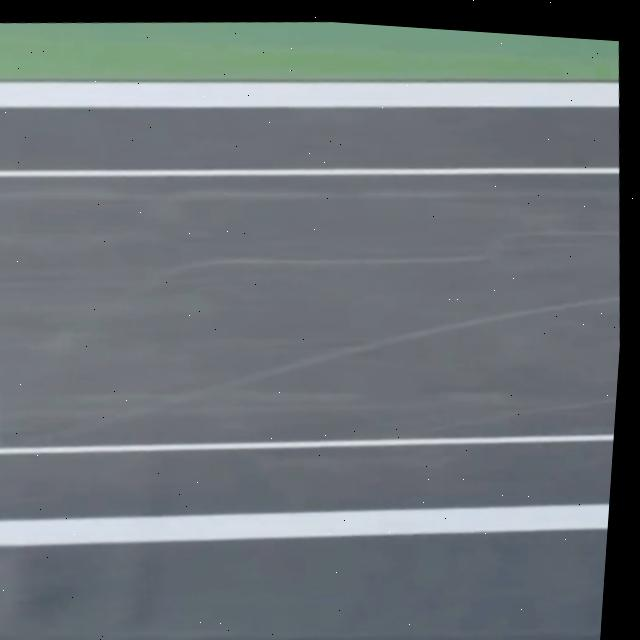center: (0, 504, 609, 544)
right: (0, 81, 619, 107)
